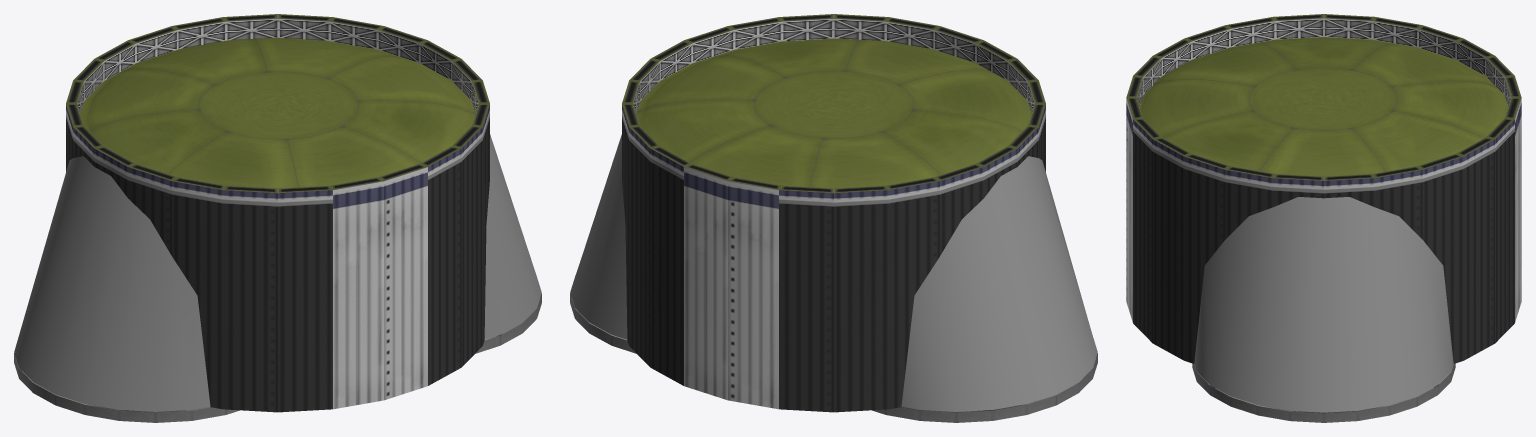
The model's file is TwinEngineCoupler.FBX.
The picture shows the model from 3 angles, left to right: view 1: azimuth 30°, elevation 25°; view 2: azimuth 150°, elevation 25°; view 3: azimuth 270°, elevation 25°; orthographic projection. The views are drawn at different scales.
Parts seen in each view (by area): view 1: MainBody, EndCap003, EngineSkirt002, EngineSkirt001, EngineMount002, EngineMount001; view 2: MainBody, EndCap003, EngineSkirt002, EngineSkirt001, EngineMount002, EngineMount001; view 3: MainBody, EngineSkirt001, EndCap003, EngineMount001.
Part boxes in pixels (x1,y1,x2,y2): MainBody: (66,14,489,412); EndCap003: (80,37,475,188); EngineSkirt002: (14,156,210,411); EngineSkirt001: (484,134,541,339); EngineMount002: (14,353,239,422); EngineMount001: (476,293,541,353); MainBody: (622,14,1045,412); EndCap003: (636,38,1031,188); EngineSkirt002: (901,156,1097,411); EngineSkirt001: (570,134,627,339); EngineMount002: (872,353,1097,422); EngineMount001: (570,293,635,353); MainBody: (1126,14,1521,363); EngineSkirt001: (1194,197,1453,412); EndCap003: (1139,37,1508,176); EngineMount001: (1192,363,1455,422).
Size of what is drawn, in the model's own units: 2.5 by 1.12 by 1.87.
